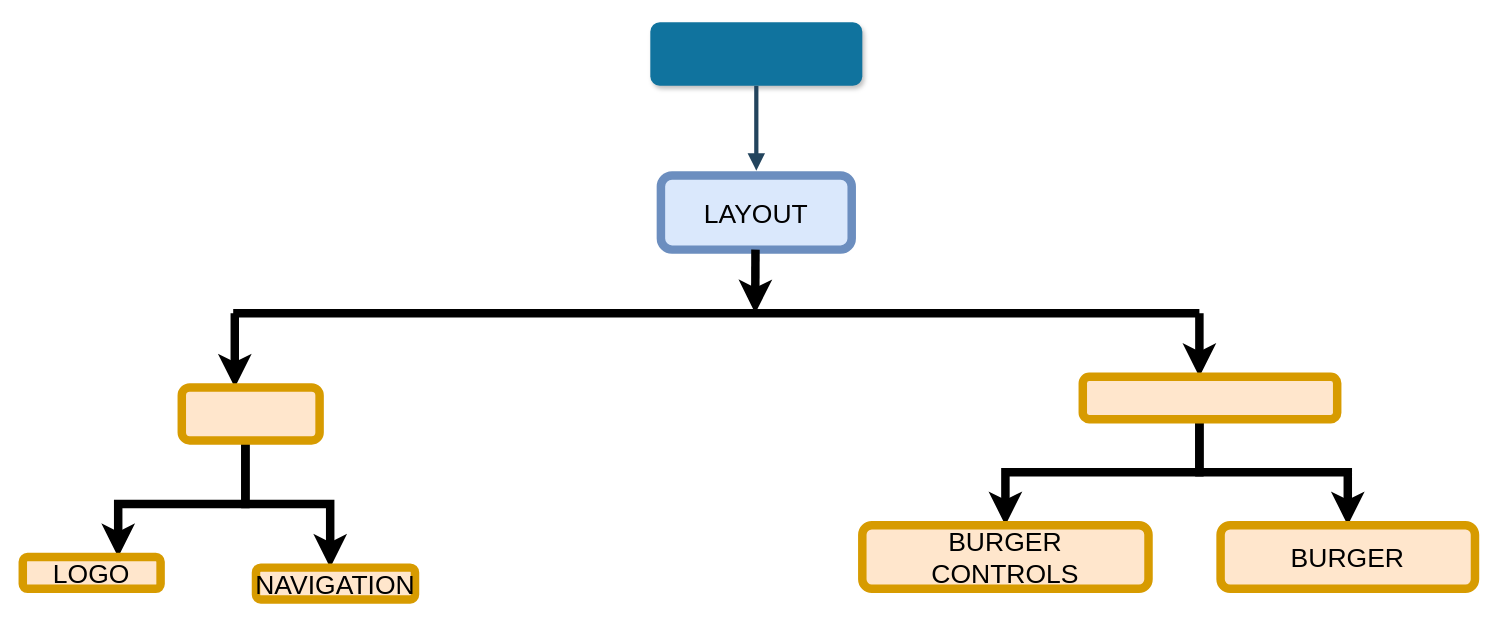
The diagram is 1497 pixels wide and 622 high, and some of its shapes have lost their labels. Here are the shapes that lost their labels. From the top down, the centre of each, then its label:
At pixel 757 55: "APP".
At pixel 250 413: "TOOLBAR".
At pixel 1209 397: "BURGERBUILDER".
